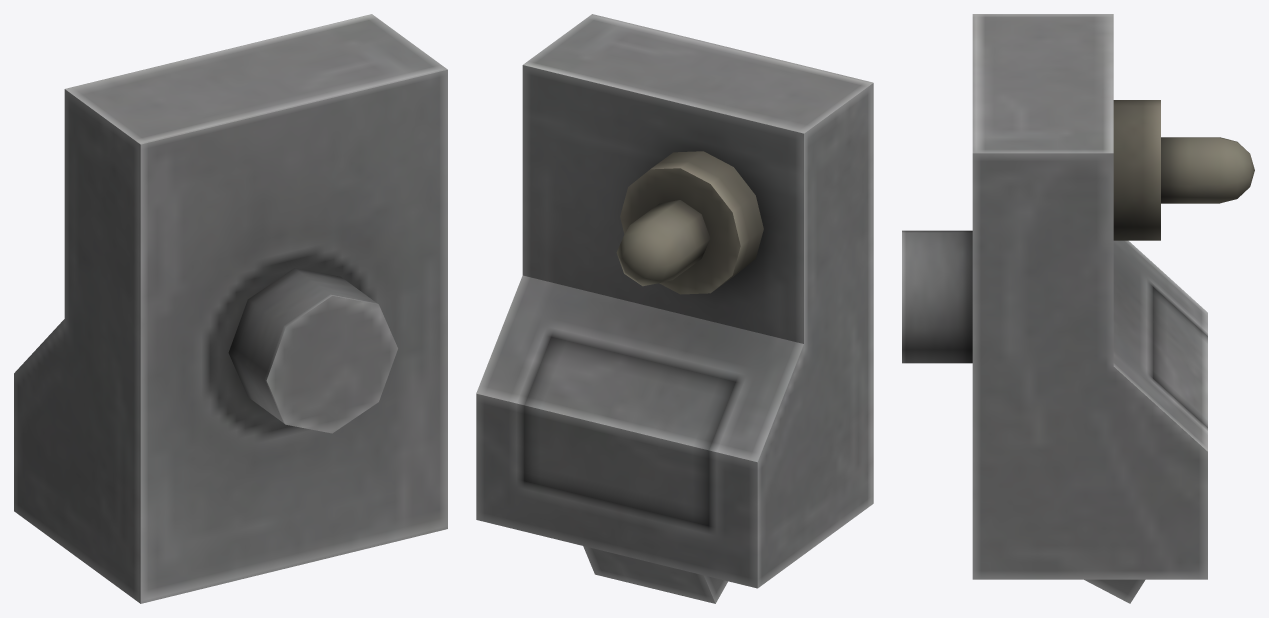
File: 1mv_sensor_thermometer_srf_1_compact.obj
The picture shows the model from 3 angles, left to right: view 1: azimuth 30°, elevation 25°; view 2: azimuth 150°, elevation 25°; view 3: azimuth 270°, elevation 25°; orthographic projection. The views are drawn at different scales.
Visible parts, largest first — view 1: mesh1; view 2: mesh1; view 3: mesh1.
Part boxes in pixels (x1,y1,x2,y2): mesh1: [14, 14, 447, 603]; mesh1: [476, 14, 873, 603]; mesh1: [902, 14, 1254, 603].
Size of the model in its own units: 0.175 by 0.2875 by 0.1875.
1 material, 1 textured.
